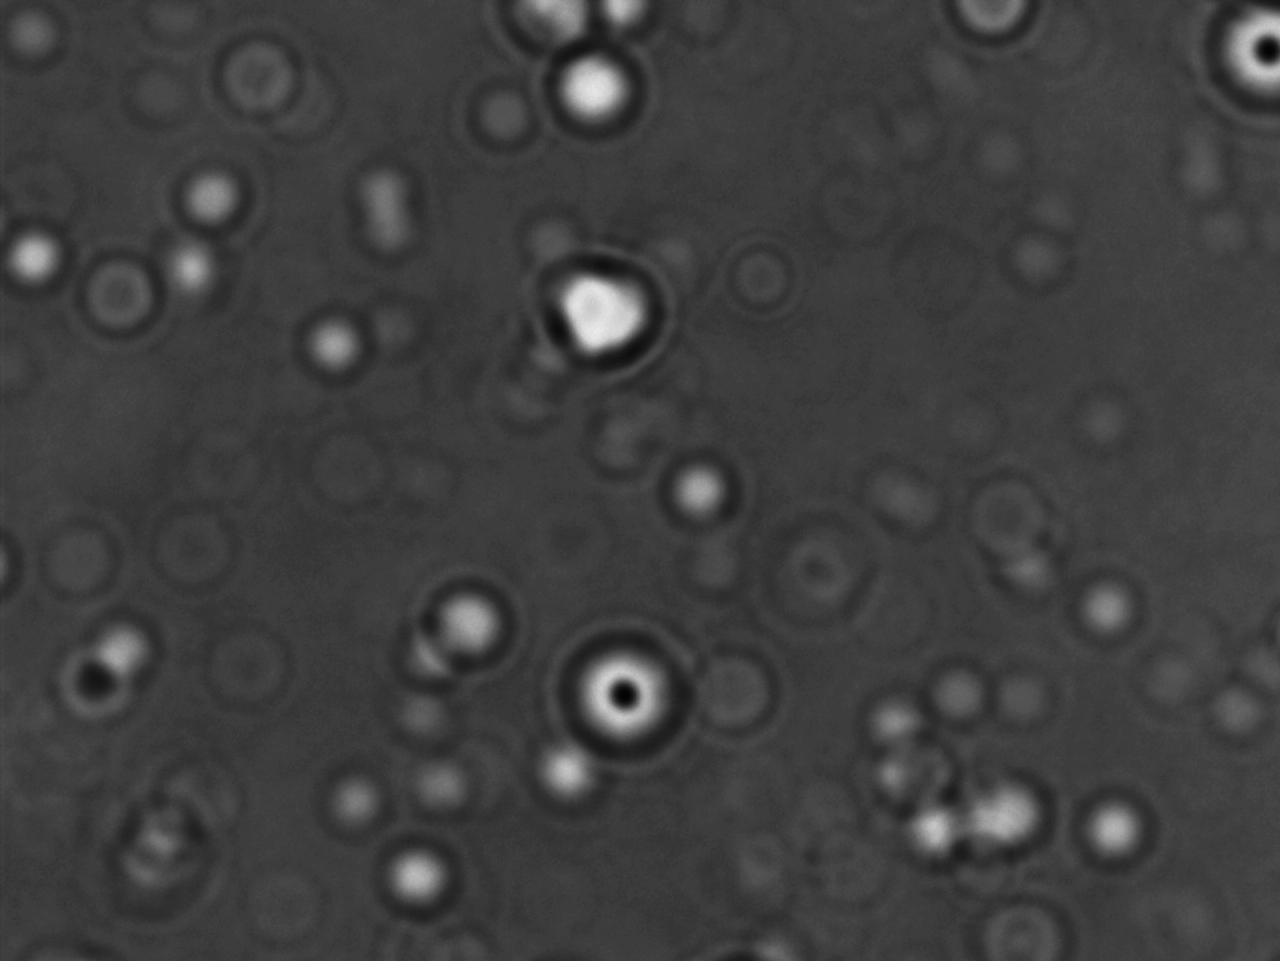depth:24: (565, 635, 696, 753)
